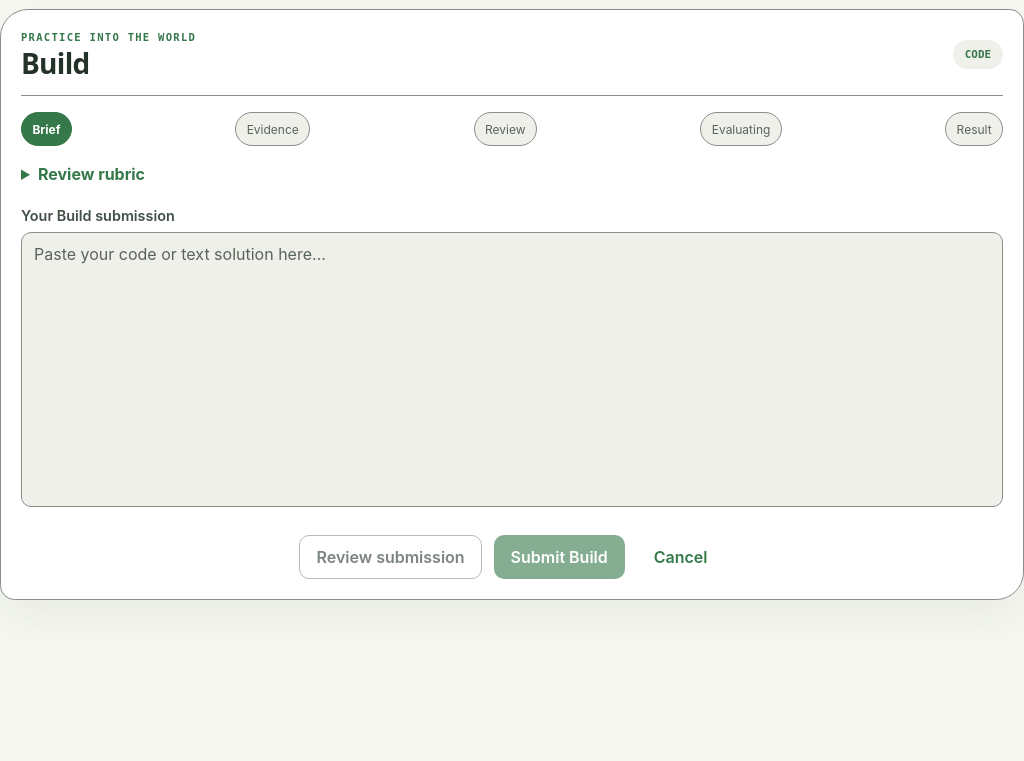
Test: ArtifactPanel › shows failure state with revise option
Type "bad code" into the text box with placeholder "Paste your code or text solution here…" at (512, 370), box [21, 232, 1003, 507]
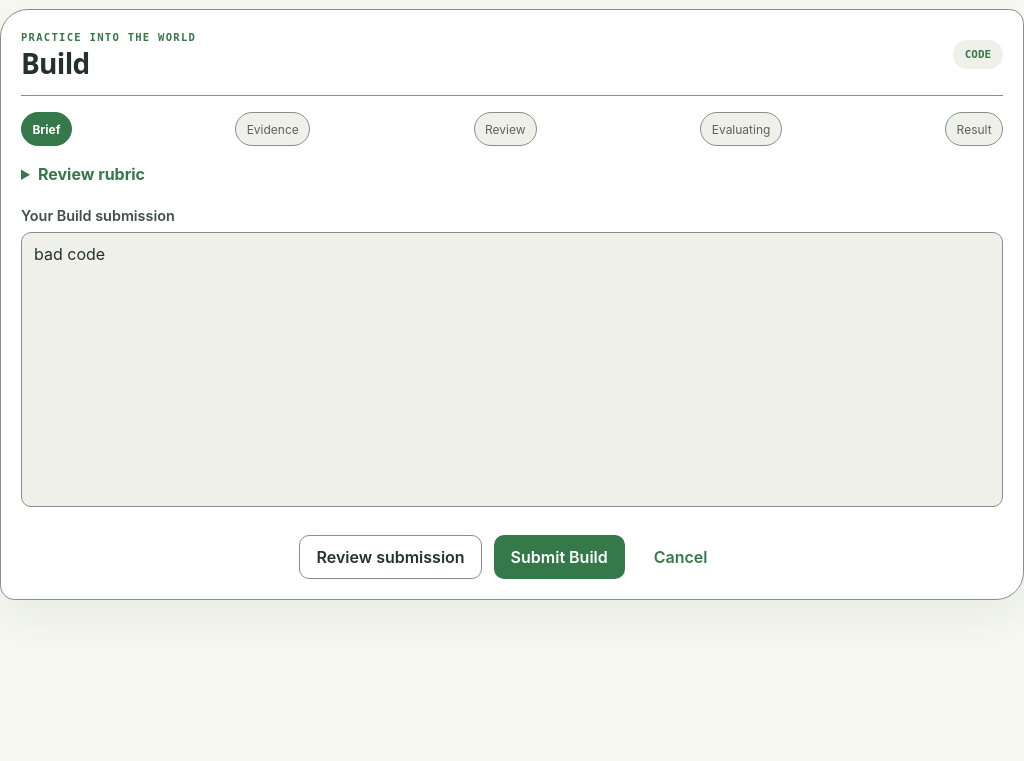
Click the button "Submit Build" at (559, 557), box [494, 535, 625, 579]
(page scrolled)
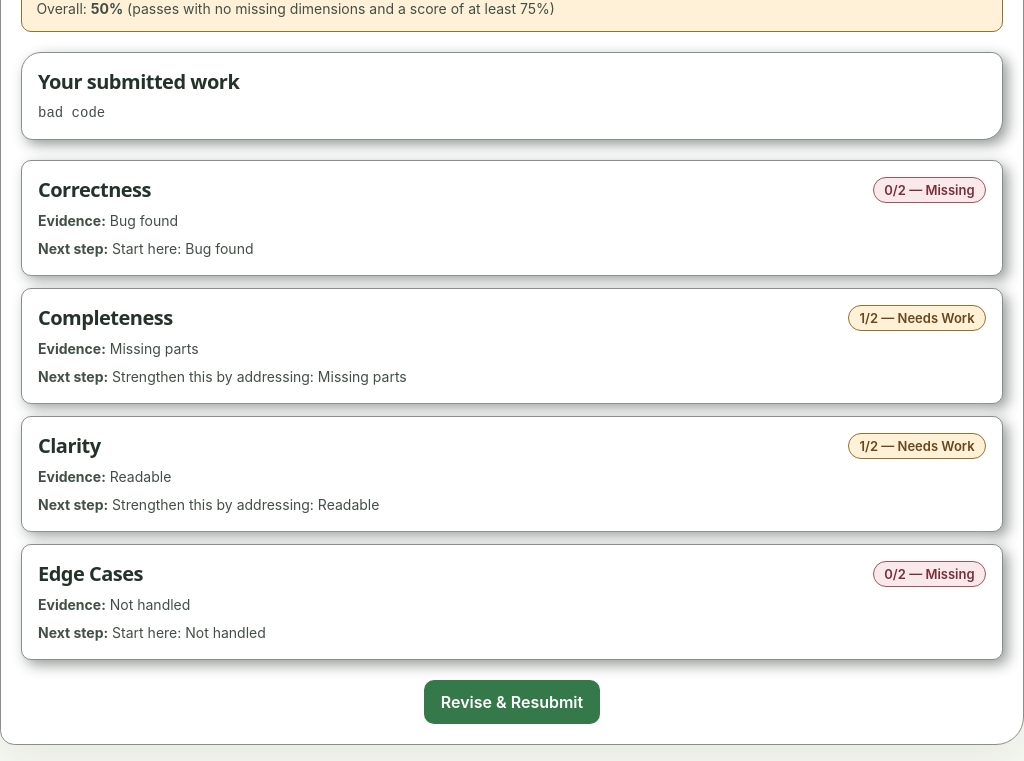
Expected: the text "Evidence:" is shown 4 times, [38, 212, 106, 229]; [38, 340, 106, 357]; [38, 468, 106, 485]; [38, 596, 106, 613]
Expected: the text "Next step:" is shown 4 times, [38, 240, 108, 257]; [38, 368, 108, 385]; [38, 496, 108, 513]; [38, 624, 108, 641]
Expected: the button "Revise & Resubmit" is shown, [424, 680, 600, 724]
